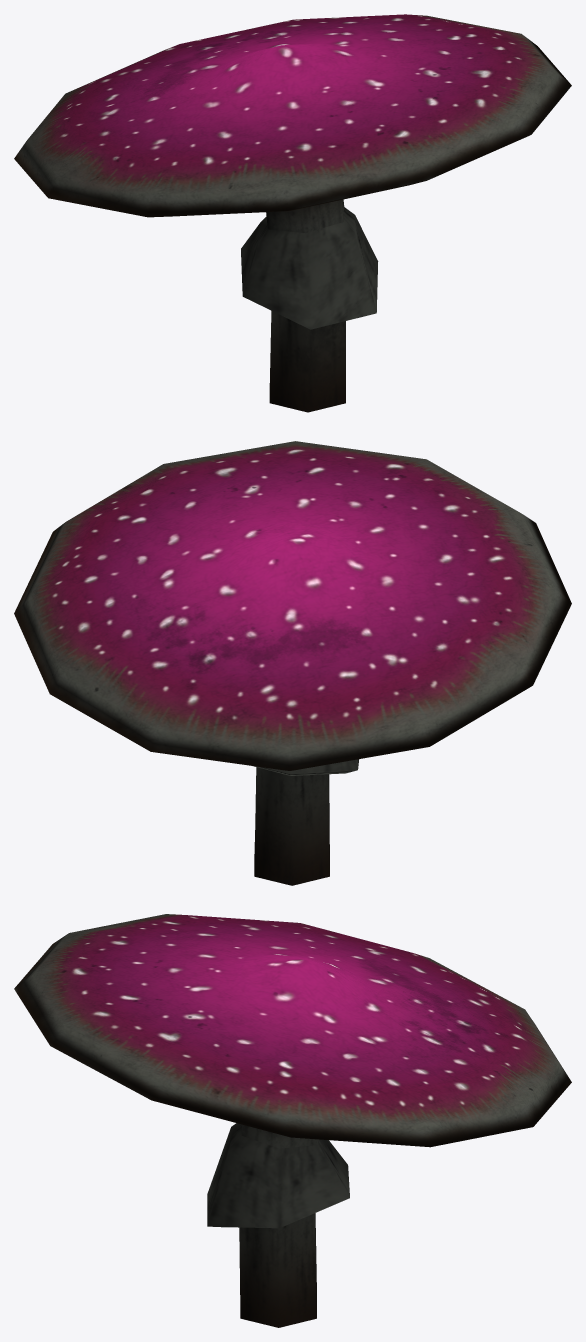
Rendered from Mushroom_02.fbx.
The picture shows the model from 3 angles, top to bottom: view 1: azimuth 30°, elevation 25°; view 2: azimuth 150°, elevation 25°; view 3: azimuth 270°, elevation 25°; orthographic projection.
Parts seen in each view (by area): view 1: polySurface2; view 2: polySurface2; view 3: polySurface2.
Boxes of the visible parts, <box> form: polySurface2: <box>14,14,571,412</box>; polySurface2: <box>14,441,571,885</box>; polySurface2: <box>14,914,571,1327</box>.
Size of the model in its own units: 5.55 by 3.72 by 5.48.
Materials: 1 (1 with a texture image).
